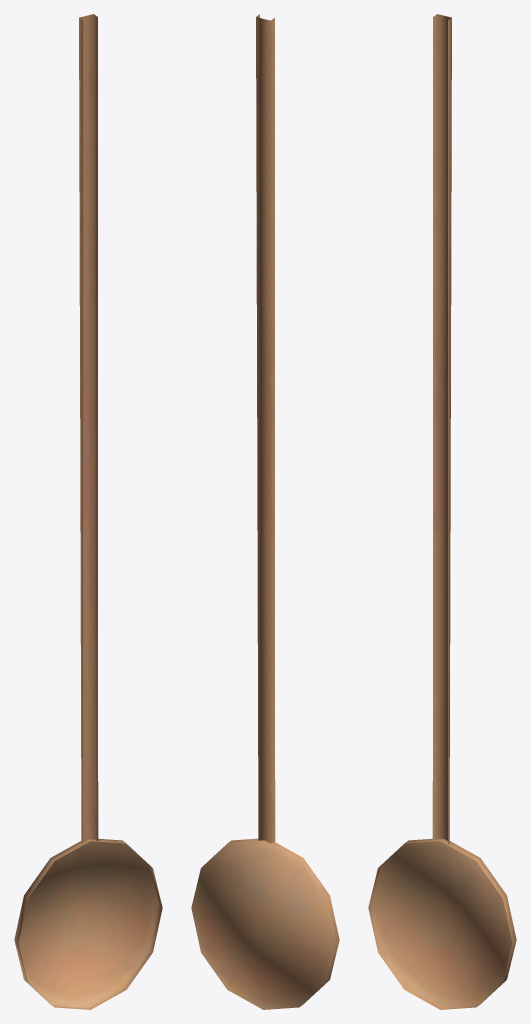
File: Badajo.obj
3 renders of one model, left to right at view 1: azimuth 30°, elevation 25°; view 2: azimuth 150°, elevation 25°; view 3: azimuth 330°, elevation 25°, orthographic.
Parts seen in each view (by area): view 1: pasted__polySurface194 group; view 2: pasted__polySurface194 group; view 3: pasted__polySurface194 group.
Boxes of the visible parts, left/top/right/bottom form: pasted__polySurface194 group: left=14, top=14, right=162, bottom=1009; pasted__polySurface194 group: left=191, top=14, right=339, bottom=1009; pasted__polySurface194 group: left=368, top=14, right=516, bottom=1009.
Bounding box in the file's own units: 0.3505 × 2.3 × 0.0445.
1 material, 1 textured.
